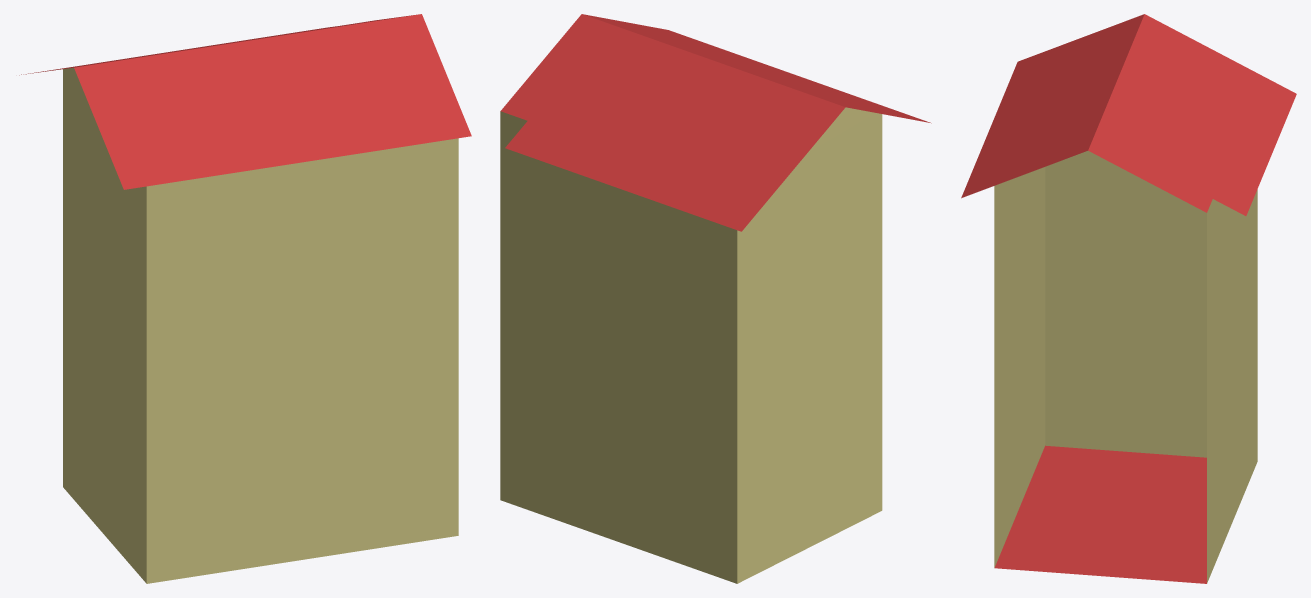
The picture shows the model from 3 angles, left to right: view 1: azimuth 30°, elevation 25°; view 2: azimuth 150°, elevation 25°; view 3: azimuth 270°, elevation 25°; orthographic projection. The views are drawn at different scales.
Size of the model in its own units: 8.1 by 7.43 by 10.36.
